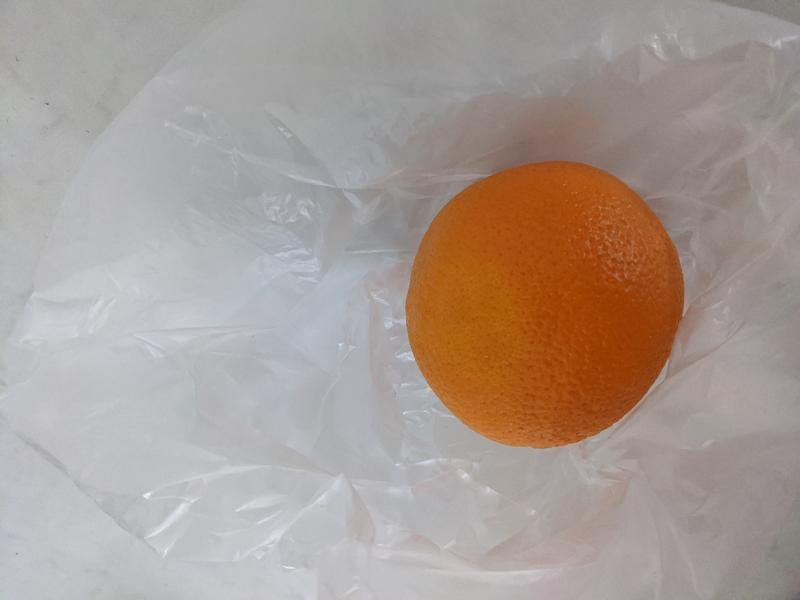orange: (404, 159, 686, 448)
